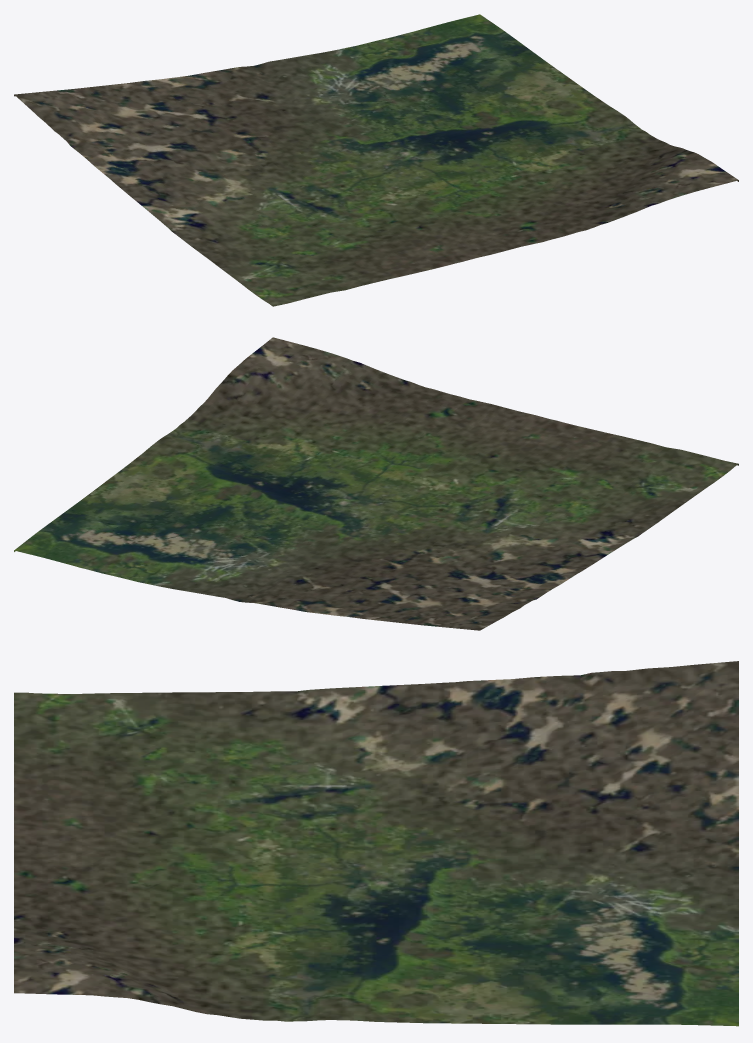
3 views of the same model, one above another, from view 1: azimuth 30°, elevation 25°; view 2: azimuth 150°, elevation 25°; view 3: azimuth 270°, elevation 25° (orthographic). The views are drawn at different scales.
Bounding box in the file's own units: 250 × 18.9 × 241.
1 material, 1 textured.
